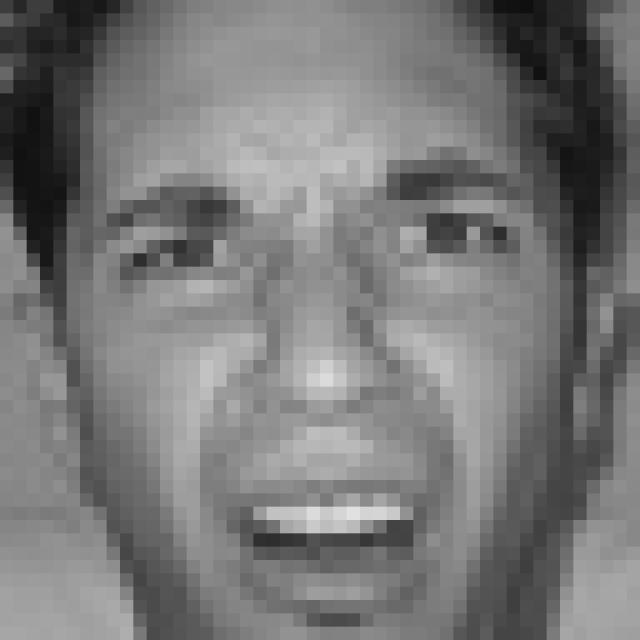disgust: (90, 149, 521, 622)
